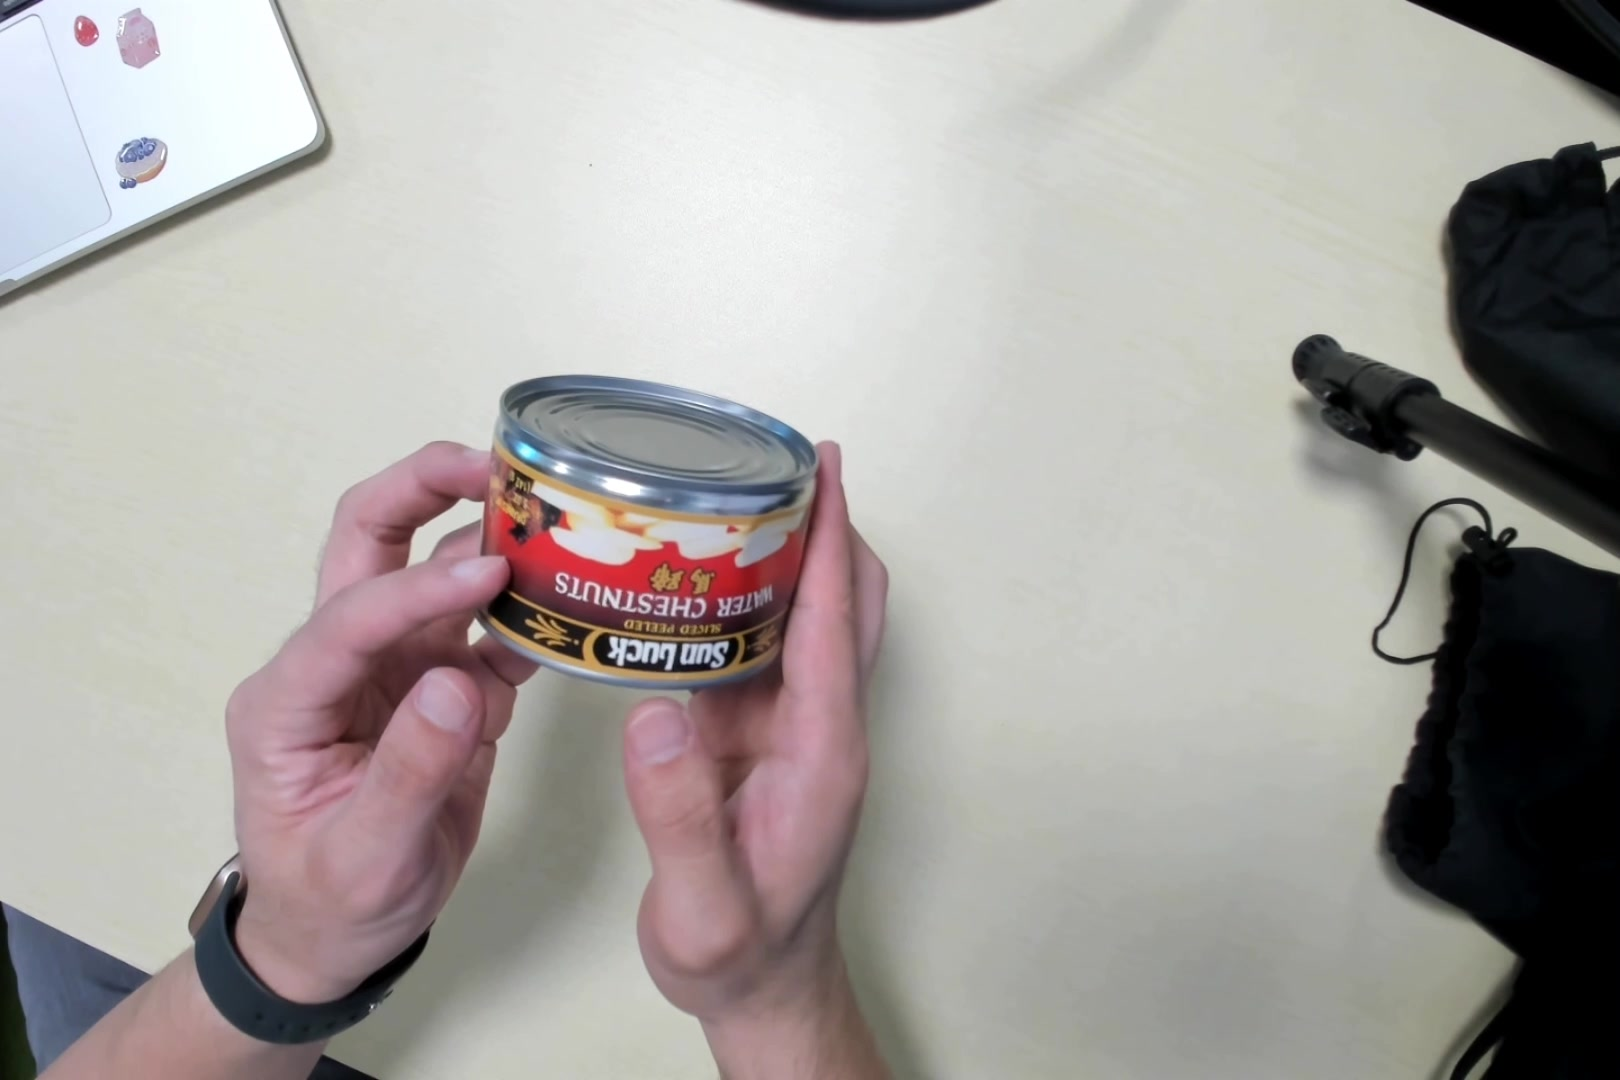CannedVegetarianFood_100-199g_Halal_NonHealthy: (481, 371, 810, 683)
